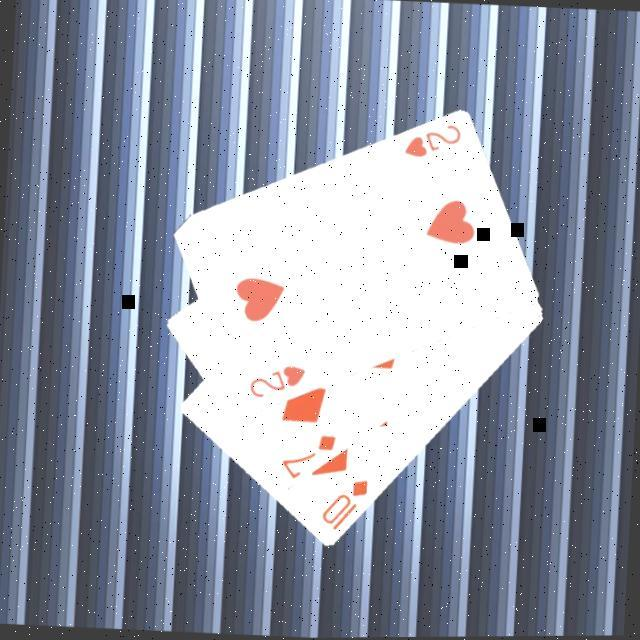10D: (316, 474, 372, 535)
2H: (398, 118, 464, 164), (244, 360, 308, 403)
7D: (276, 429, 339, 482)
